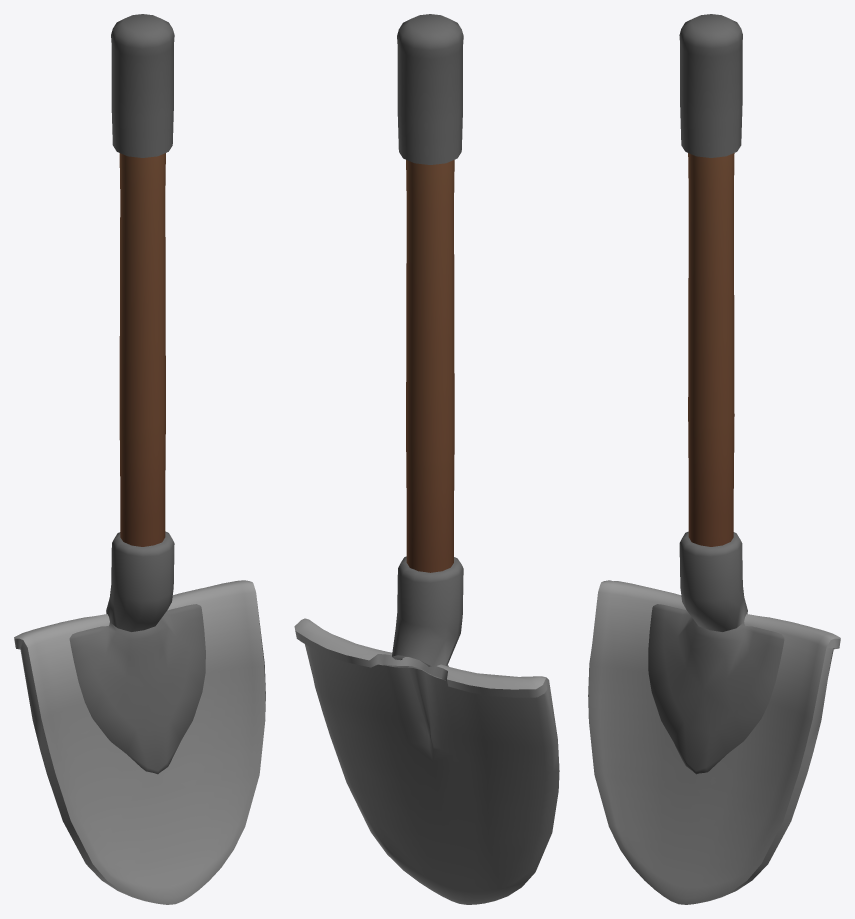
The model's file is Shovel.fbx.
3 renders of one model, left to right at view 1: azimuth 30°, elevation 25°; view 2: azimuth 150°, elevation 25°; view 3: azimuth 330°, elevation 25°, orthographic. The views are drawn at different scales.
Visible parts, largest first — view 1: Shovel; view 2: Shovel; view 3: Shovel.
Part boxes in pixels (box(x1,y1,x2,y2)): Shovel: box(14, 14, 265, 904); Shovel: box(294, 14, 559, 904); Shovel: box(588, 14, 840, 904).
Size of the model in its own units: 0.7314 by 2.55 by 0.2929.
